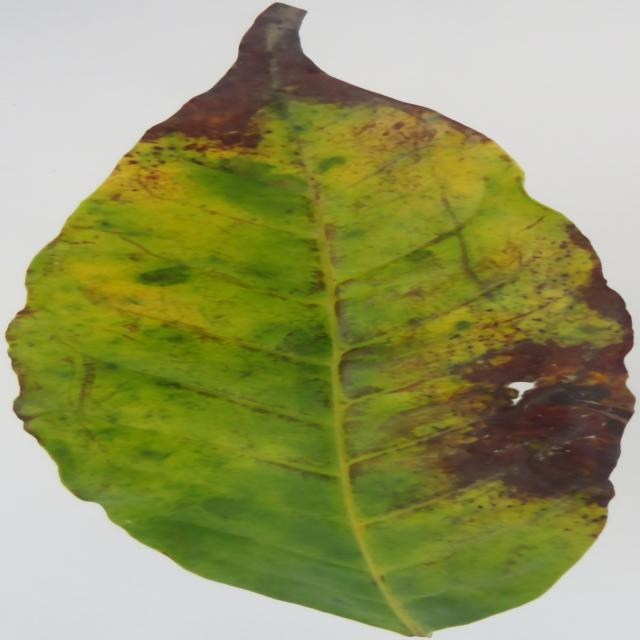DeficienciaNutricional-Potasio: (9, 4, 634, 635)
